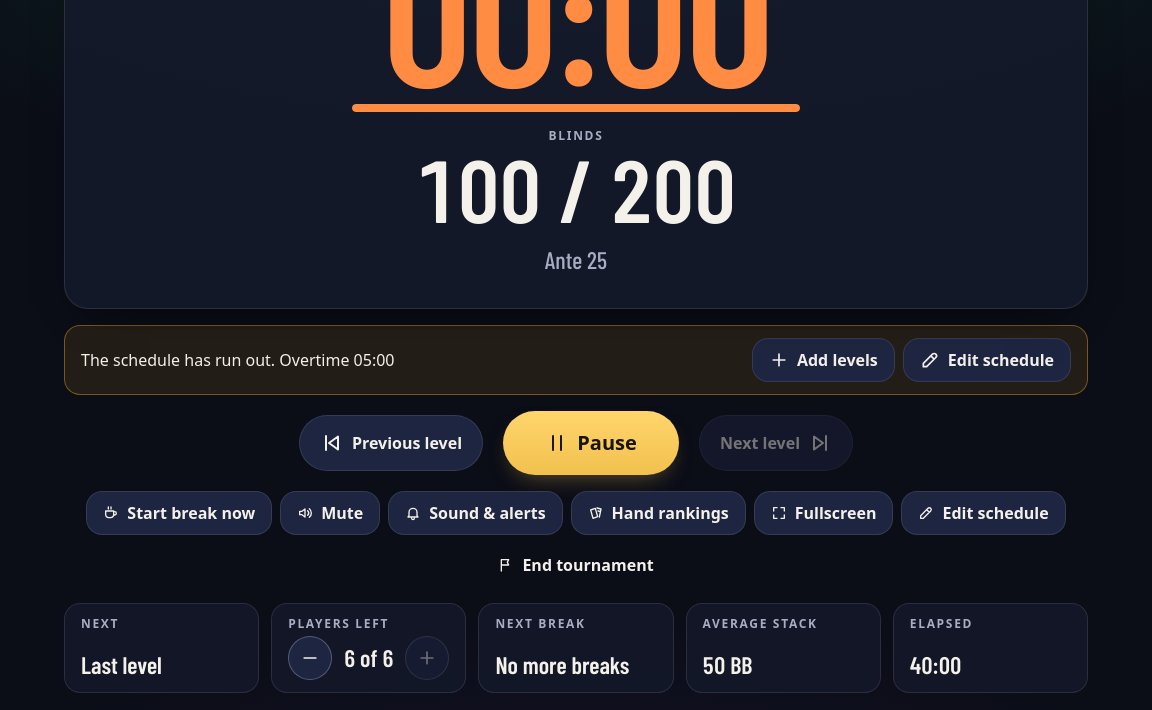
it: live clock screen › offers to add levels in overtime, with a preview first
The width and height of the screenshot is (1152, 710).
(page scrolled)
Expected: the text "The schedule has run out. Overtime 05:00" is shown, [81,348,394,372]
Click the button "Add levels". click: (823, 360)
box: [752,338,895,382]
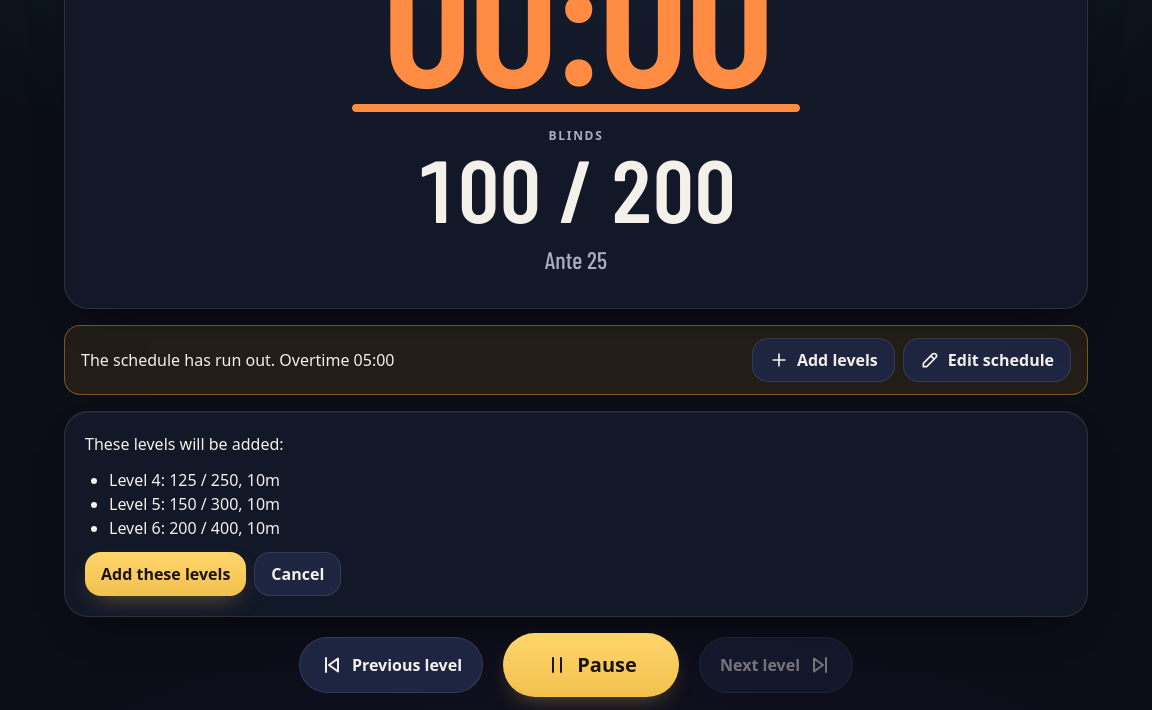
Now the number of list items is 3, box [109,469,280,491]; [109,493,280,515]; [109,517,280,539]
Click the button "Add these levels". click: (166, 574)
box: [85,552,246,596]
(page scrolled)
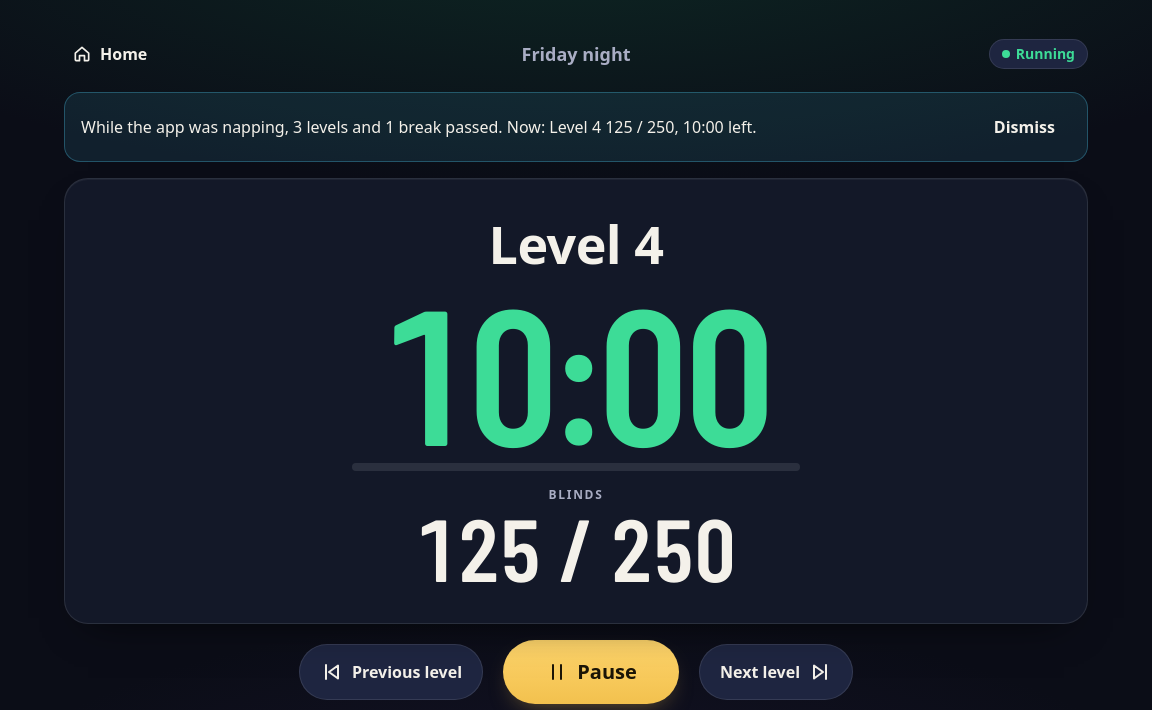
Now the heading reads "Level 4", box [488,208,663,279]
Now the text "Overtime" is gone
